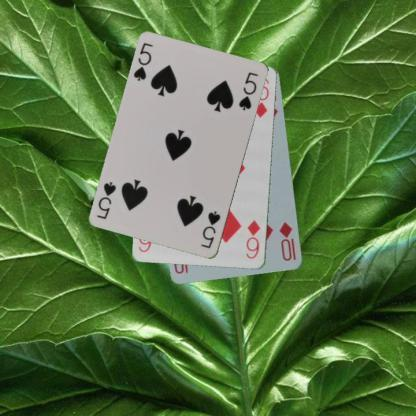10d: (276, 220, 298, 262)
5s: (198, 208, 223, 250), (131, 40, 154, 82)
6d: (244, 217, 262, 260)
